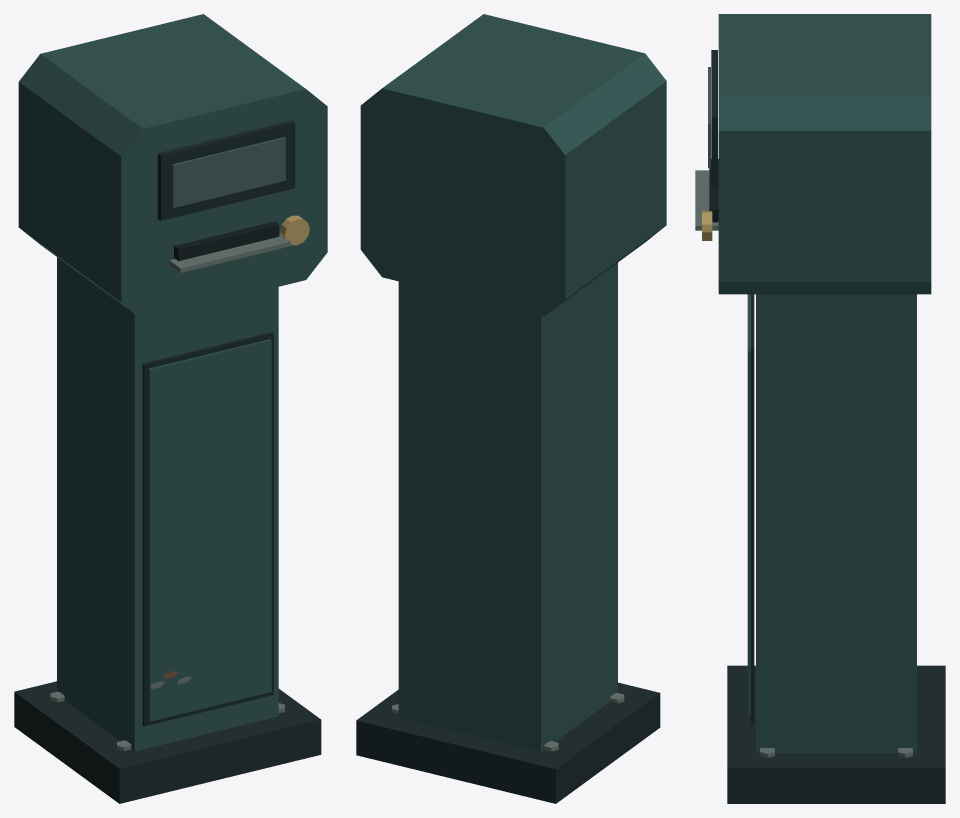
The model's file is ticket-dispenser.glb.
The picture shows the model from 3 angles, left to right: view 1: azimuth 30°, elevation 25°; view 2: azimuth 150°, elevation 25°; view 3: azimuth 270°, elevation 25°; orthographic projection. The views are drawn at different scales.
Visible parts, largest first — view 1: ticket-dispenser; view 2: ticket-dispenser; view 3: ticket-dispenser.
Boxes of the visible parts, x1,y1,x2,y2 form: ticket-dispenser: (14, 14, 327, 803); ticket-dispenser: (356, 14, 666, 803); ticket-dispenser: (695, 14, 945, 803).
Bounding box in the file's own units: 0.43 × 1.34 × 0.4355.
